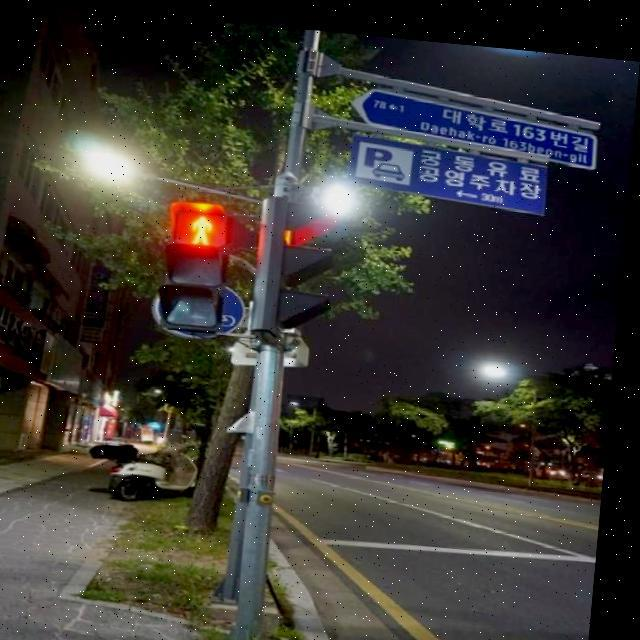red_light: (178, 202, 228, 240)
